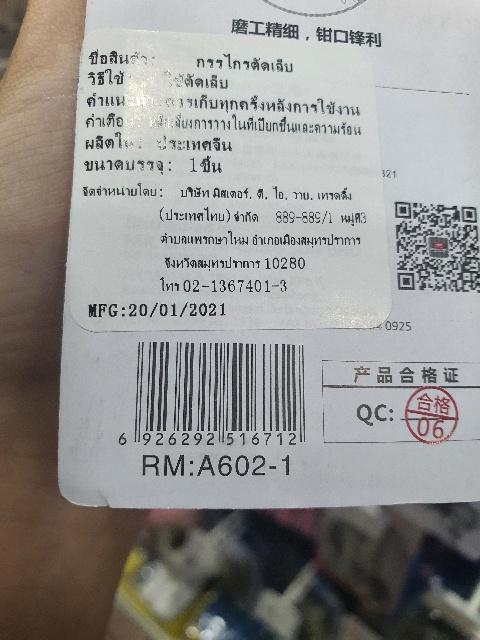Barcode: (112, 336, 314, 453)
